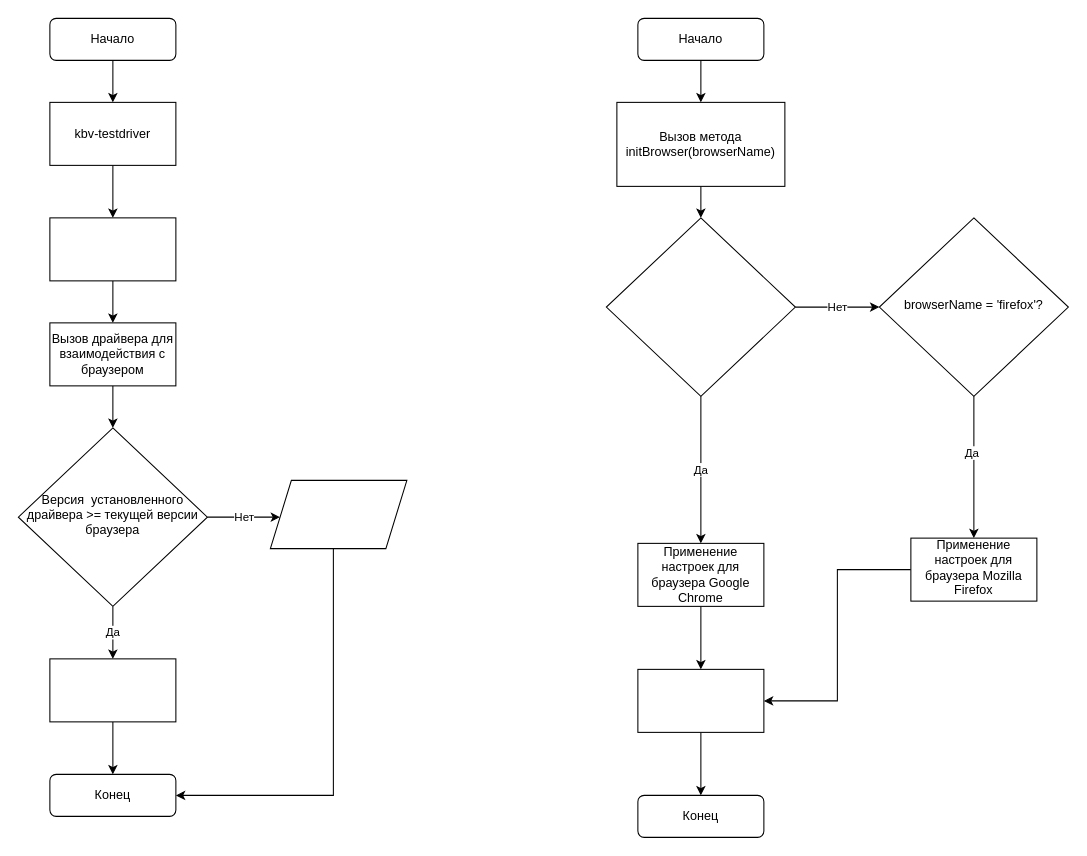
This 1087x856 diagram has some shape labels left out. Here are the shapes that lost their labels. From the top down, the centre of each, then its label:
point 112,249: Вызов Selenium Webdriver
point 700,306: browserName = 'chrome'?
point 338,514: Вывод ошибки в консоль
point 112,690: Вызов браузера
point 700,700: Инициализация браузера
